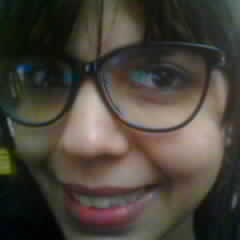without_mask: (5, 3, 232, 239)
